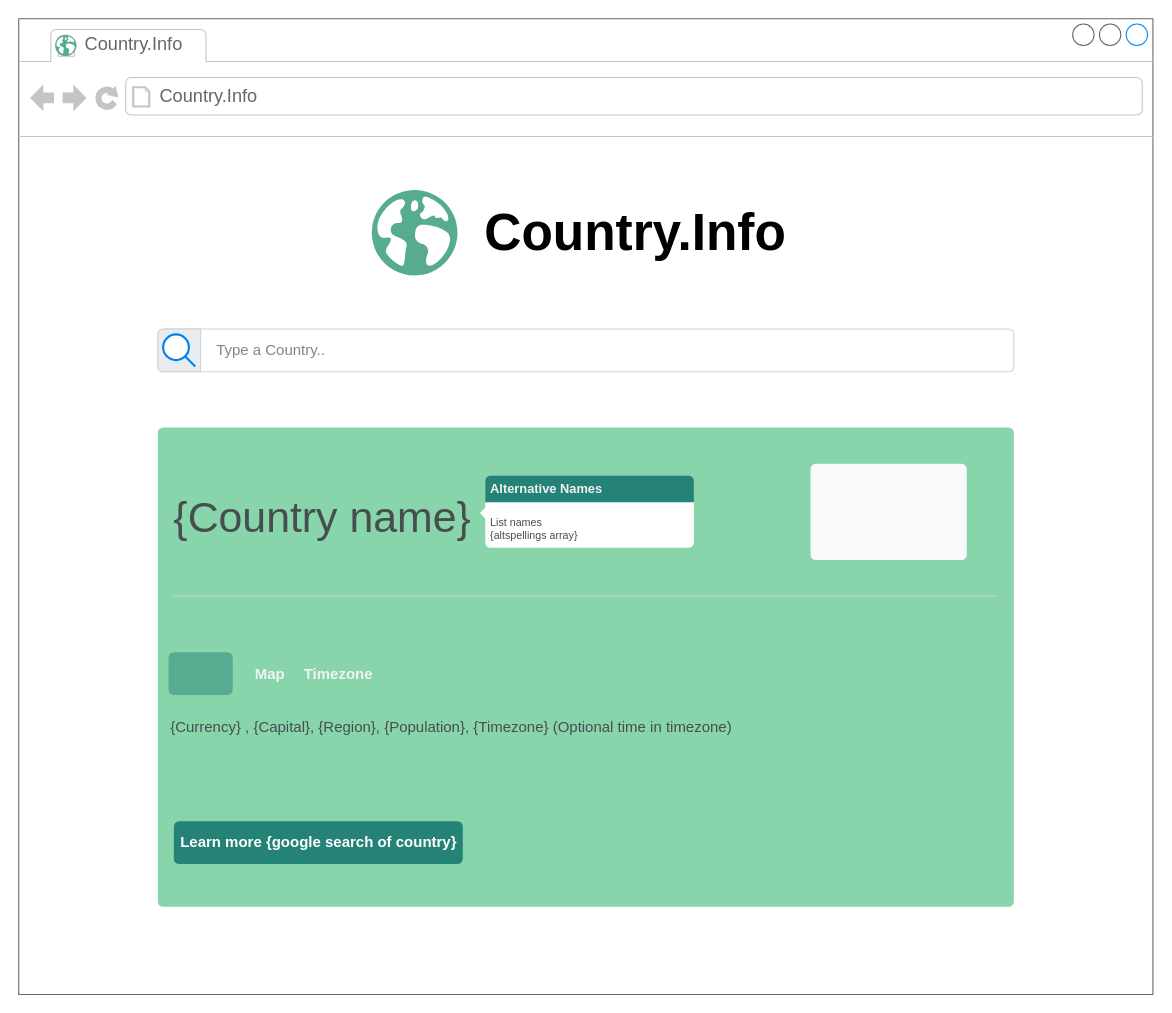
Some shapes in this 1172 by 1013 pixel diagram are drawn without their labels. Each missing label, with the box of its shape:
Info: (168, 652, 232, 694)
{flags.png}: (810, 463, 966, 560)
